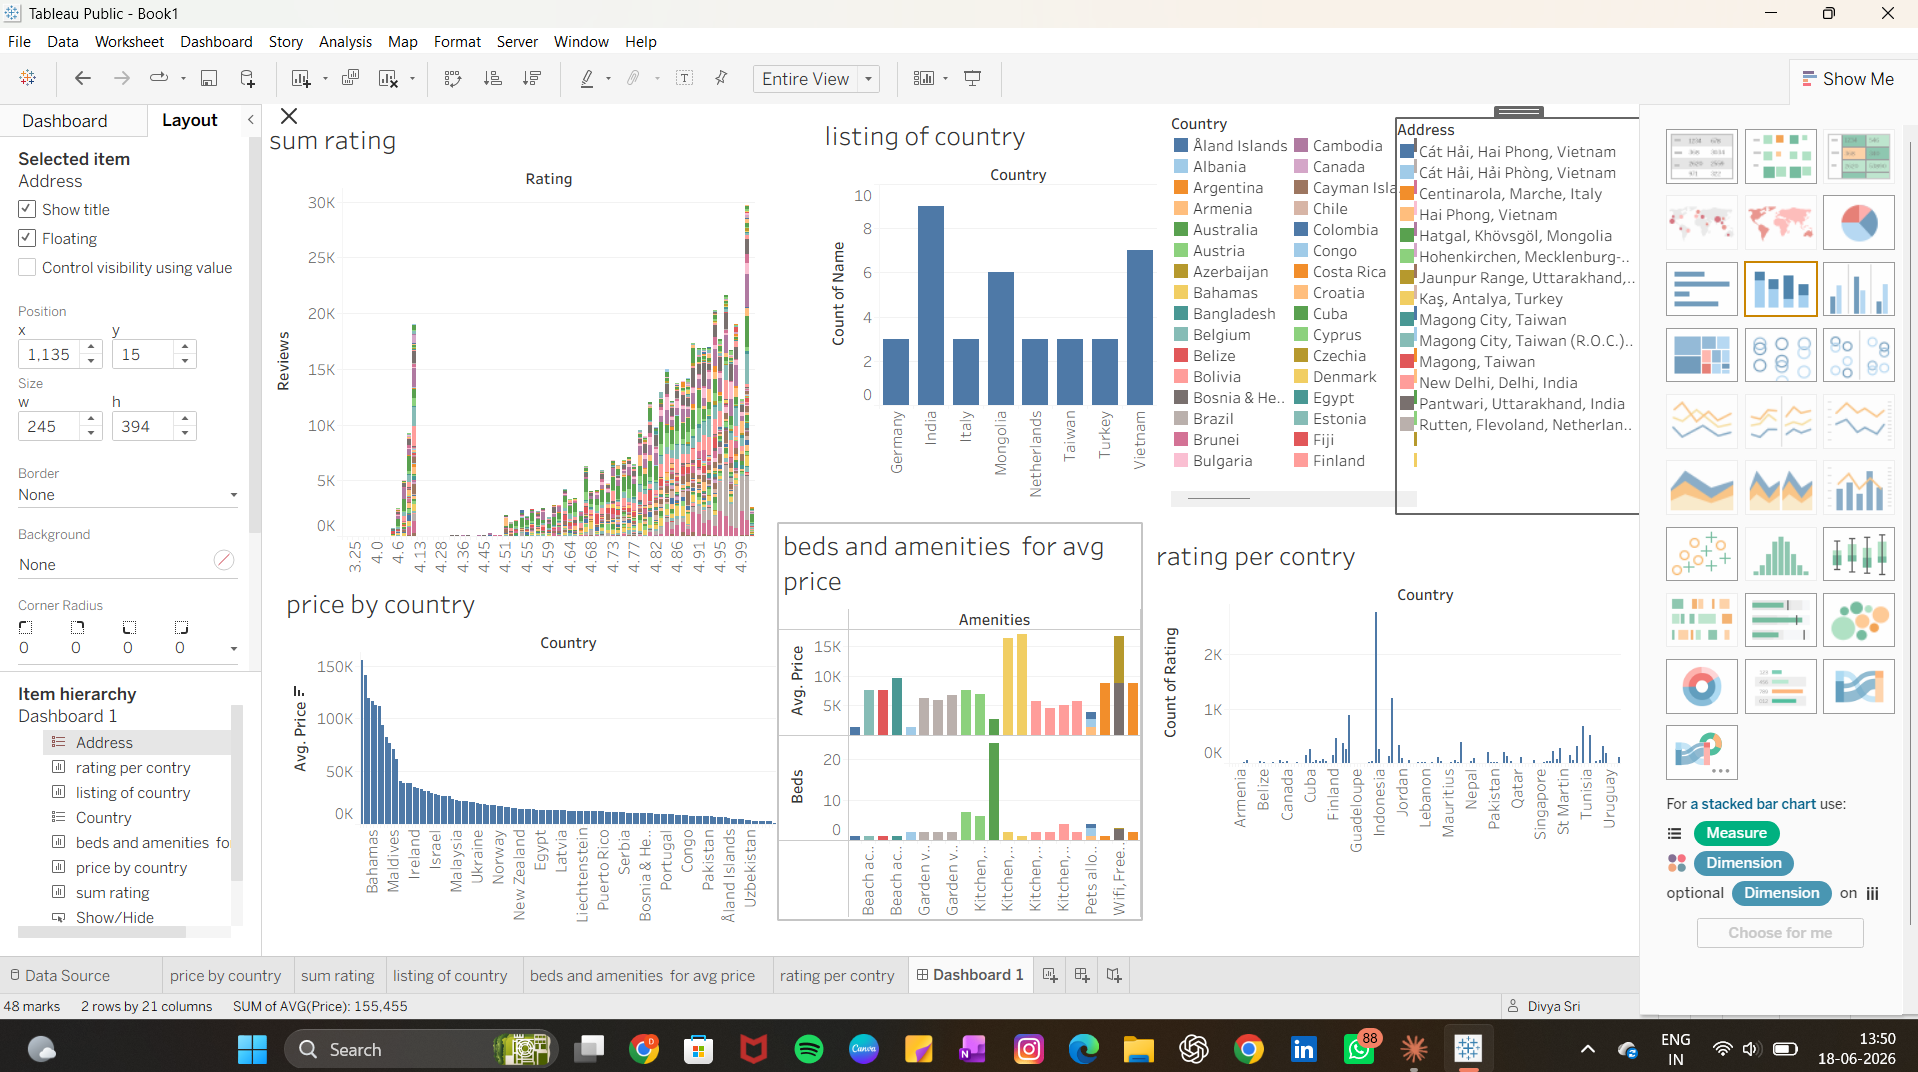

This screenshot's page, from the dashboard's own definition file:
{"tool":"tableau","page":{"name":"Dashboard 1","canvas":[1000,1000],"units":"permille","ordinal":0},"visuals":[{"type":"dashboard-object","box":[0,0,36.9,28.2]},{"type":"legend","title":"sum rating","param":"[federated.0ny71au0j70yuo1200o4y1r74usy].[none:country:nk]","box":[566.2,10.6,231.7,462.4]},{"type":"worksheet","title":"listing of country","mark":"Automatic","rows":["name"],"cols":["country"],"box":[384.8,11.7,232.4,458.9]},{"type":"worksheet","title":"sum rating","mark":"Automatic","rows":["reviews"],"cols":["rating"],"box":[2.1,16.4,337.9,537.6]},{"type":"legend","title":"beds and amenities  for avg price","param":"[federated.0ny71au0j70yuo1200o4y1r74usy].[none:address:nk]","box":[798.6,17.6,153.1,462.4]},{"type":"worksheet","title":"beds and amenities  for avg price","mark":"Automatic","rows":["price","beds"],"cols":["amenities"],"box":[356.6,493,249.7,463.6]},{"type":"worksheet","title":"rating per contry","mark":"Automatic","rows":["rating"],"cols":["country"],"box":[613.8,504.7,323.4,456.6]},{"type":"worksheet","title":"price by country","mark":"Automatic","rows":["price"],"cols":["country"],"box":[13.8,561,340.7,401.4]}]}

Visuals, with their boxes on the dashboard's canvas, which has no fixed pixel size, in thousandths of its width and height (x1, y1, x2, y2). These are canvas units, not pixel positions in the 1918x1072 screenshot, which may show the page scaled, cropped or inside an application window:
dashboard-object: {"x1": 0, "y1": 0, "x2": 37, "y2": 28}
"sum rating" legend: {"x1": 566, "y1": 11, "x2": 798, "y2": 473}
"listing of country" worksheet: {"x1": 385, "y1": 12, "x2": 617, "y2": 471}
"sum rating" worksheet: {"x1": 2, "y1": 16, "x2": 340, "y2": 554}
"beds and amenities  for avg price" legend: {"x1": 799, "y1": 18, "x2": 952, "y2": 480}
"beds and amenities  for avg price" worksheet: {"x1": 357, "y1": 493, "x2": 606, "y2": 957}
"rating per contry" worksheet: {"x1": 614, "y1": 505, "x2": 937, "y2": 961}
"price by country" worksheet: {"x1": 14, "y1": 561, "x2": 354, "y2": 962}
